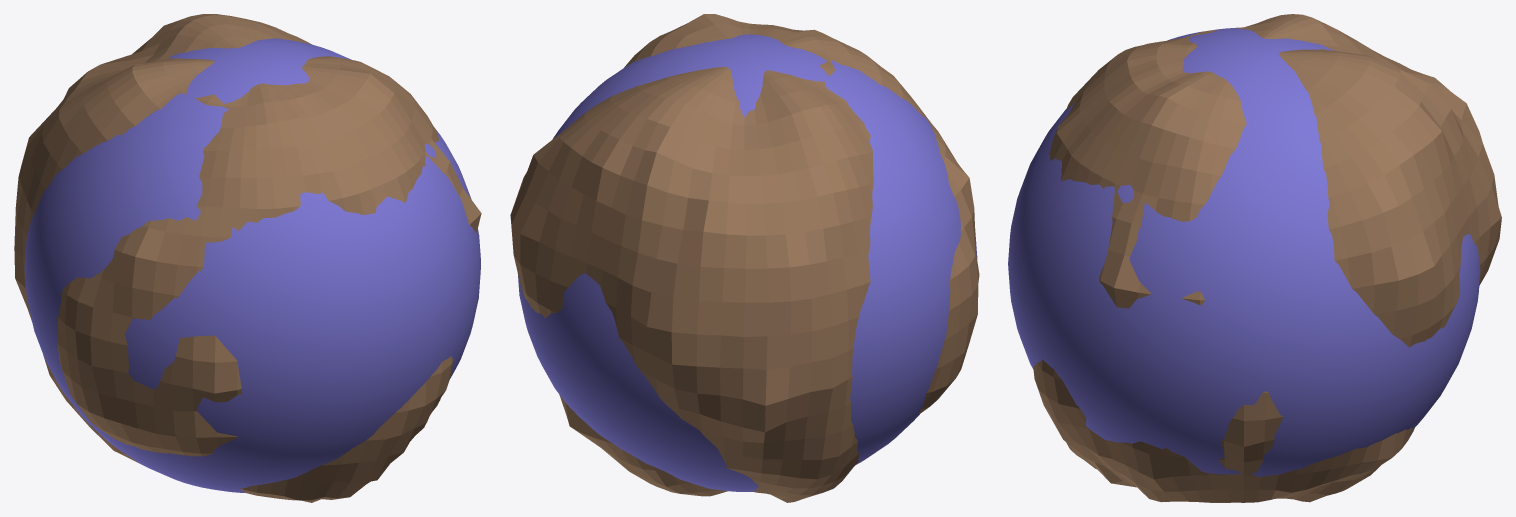
Rendered from World.fbx.
The picture shows the model from 3 angles, left to right: view 1: azimuth 30°, elevation 25°; view 2: azimuth 150°, elevation 25°; view 3: azimuth 270°, elevation 25°; orthographic projection. The views are drawn at different scales.
Parts seen in each view (by area): view 1: Sphere.001, Sphere; view 2: Sphere, Sphere.001; view 3: Sphere.001, Sphere.
Part boxes in pixels (x1,y1,x2,y2): Sphere.001: (24, 38, 480, 492); Sphere: (14, 14, 481, 502); Sphere: (510, 14, 979, 502); Sphere.001: (518, 34, 977, 491); Sphere.001: (1008, 27, 1480, 495); Sphere: (1033, 14, 1501, 502).
Size of the model in its own units: 5032 by 5023 by 5222.
